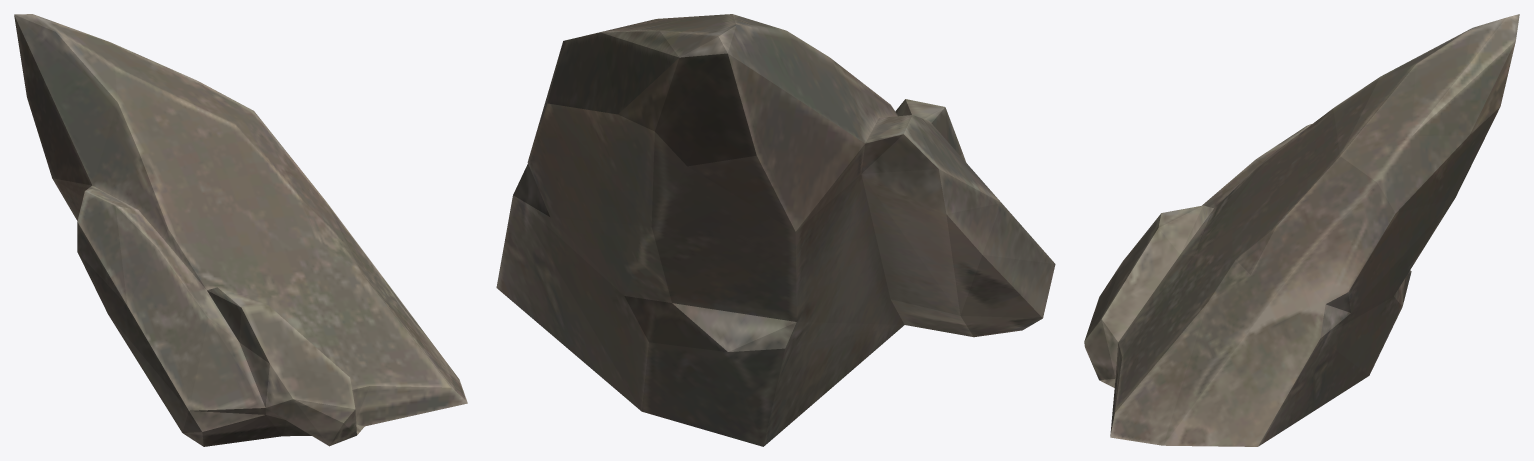
The model's file is Rock_B.fbx.
The picture shows the model from 3 angles, left to right: view 1: azimuth 30°, elevation 25°; view 2: azimuth 150°, elevation 25°; view 3: azimuth 270°, elevation 25°; orthographic projection. The views are drawn at different scales.
Visible parts, largest first — view 1: Dn_VFX_Rocks_Single_D.mo; view 2: Dn_VFX_Rocks_Single_D.mo; view 3: Dn_VFX_Rocks_Single_D.mo.
Boxes of the visible parts, x1=… form: Dn_VFX_Rocks_Single_D.mo: x1=14, y1=14, x2=467, y2=446; Dn_VFX_Rocks_Single_D.mo: x1=496, y1=14, x2=1055, y2=446; Dn_VFX_Rocks_Single_D.mo: x1=1084, y1=14, x2=1519, y2=446.
Bounding box in the file's own units: 137 × 132 × 171.
1 material, 1 textured.
